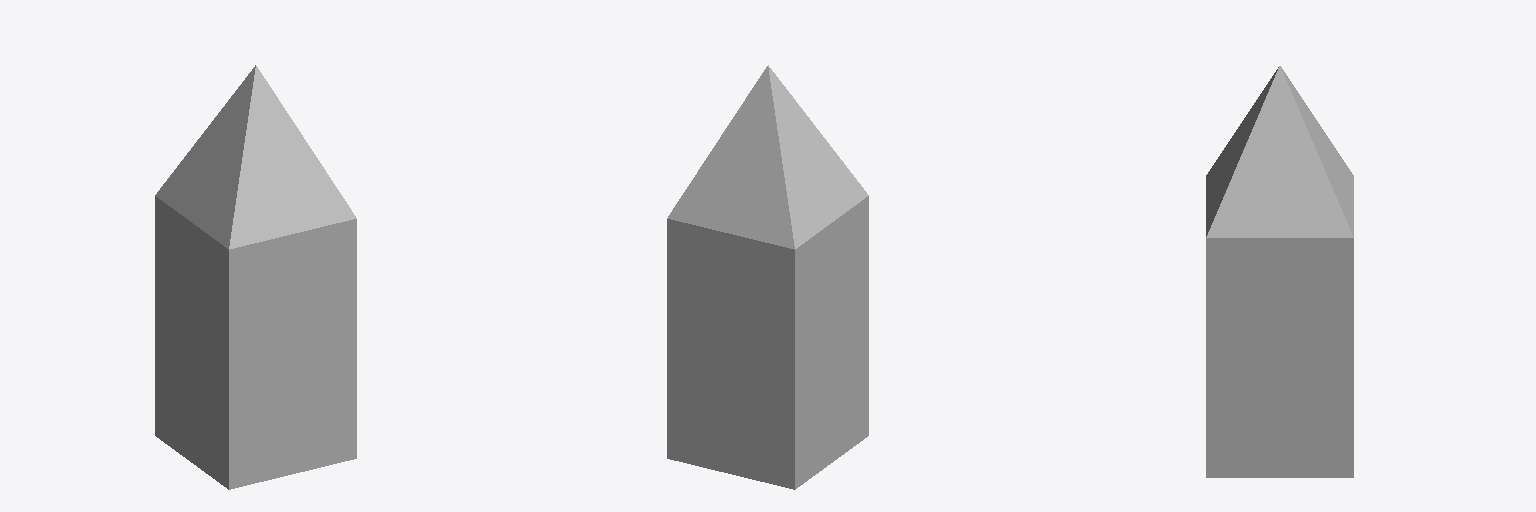
The model's file is BuildingV2.obj.
3 views of the same model, side by side, from view 1: azimuth 30°, elevation 25°; view 2: azimuth 150°, elevation 25°; view 3: azimuth 270°, elevation 25° (orthographic).
Parts seen in each view (by area): view 1: polySurface13; view 2: polySurface13; view 3: polySurface13.
Boxes of the visible parts, box(x1,y1,x2,y2) form: polySurface13: box(155, 65, 356, 489); polySurface13: box(667, 65, 868, 489); polySurface13: box(1206, 66, 1353, 477).
Size of the model in its own units: 2.02 by 5.7 by 2.02.